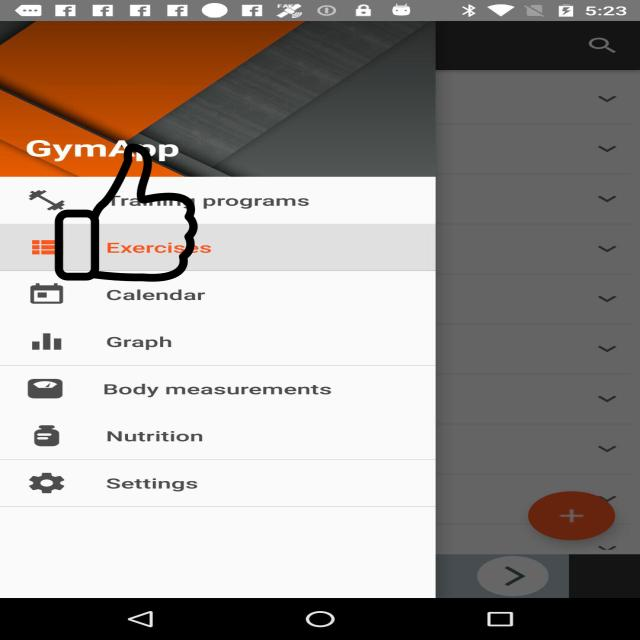privacy zuckering: (52, 144, 200, 282)
